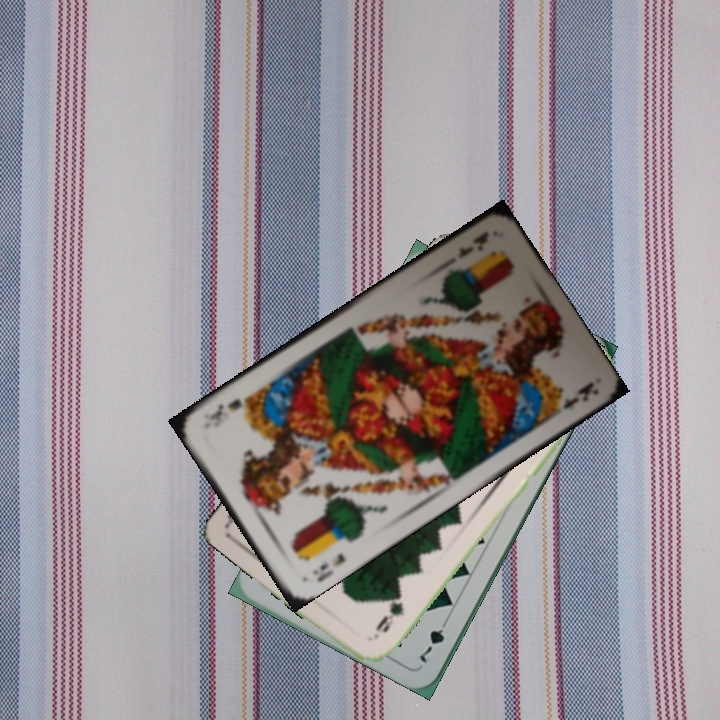EK: (308, 549, 348, 585), (452, 227, 492, 261)
G7: (415, 613, 452, 666)
G9: (369, 590, 407, 641)
